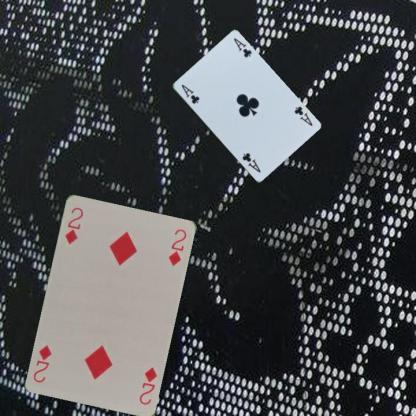2d: (136, 364, 159, 406), (62, 204, 84, 245)
Ac: (178, 82, 202, 106), (291, 104, 314, 128)
